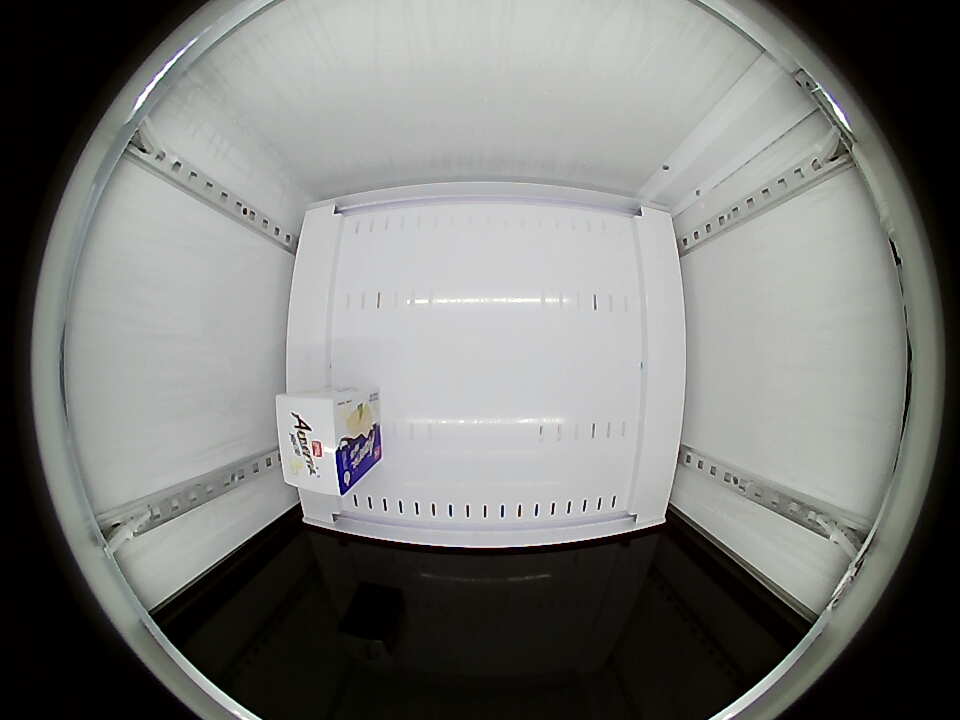meiniye: (275, 391, 364, 498)
